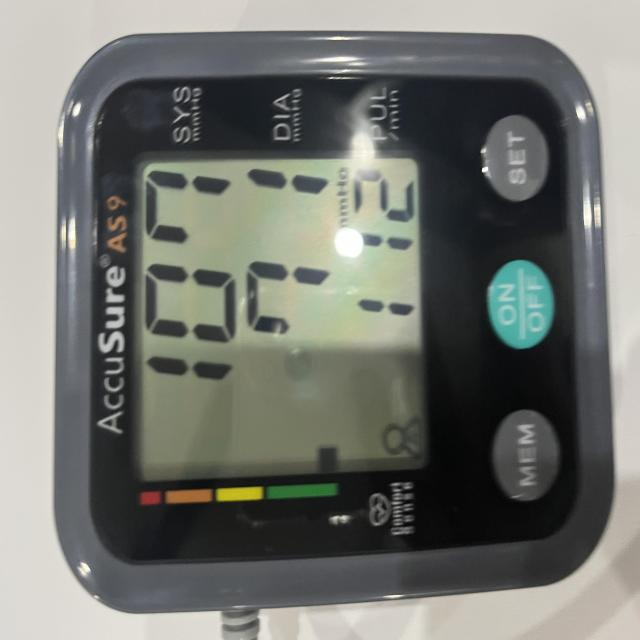bp: (48, 30, 640, 640)
